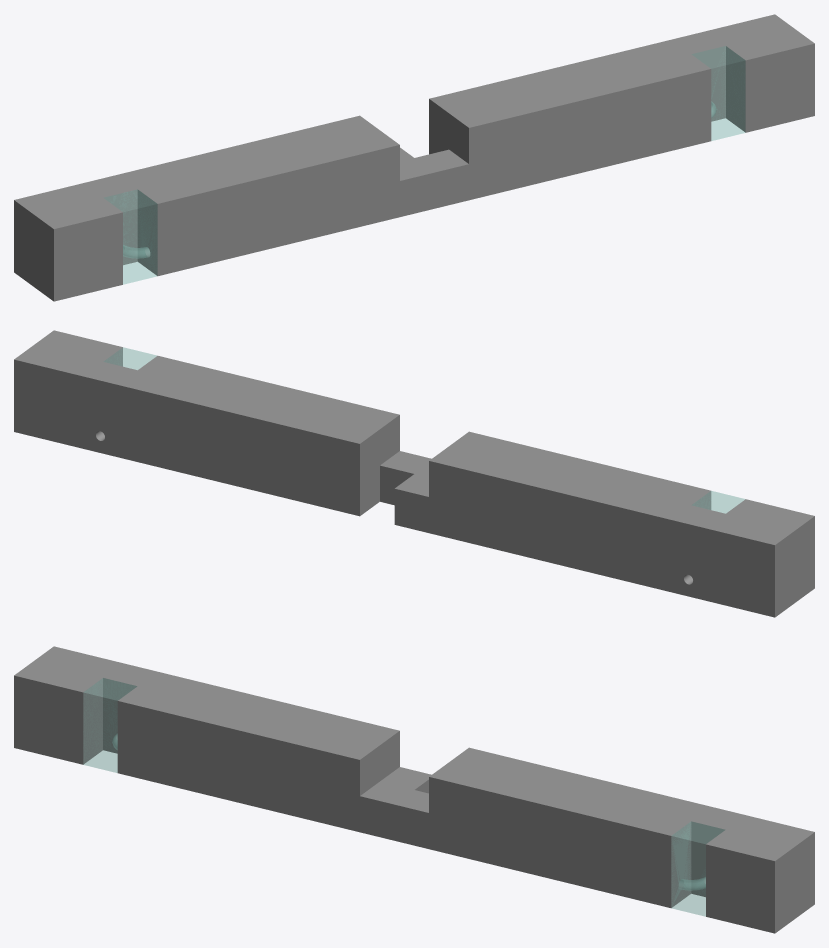
The picture shows the model from 3 angles, top to bottom: view 1: azimuth 30°, elevation 25°; view 2: azimuth 150°, elevation 25°; view 3: azimuth 330°, elevation 25°; orthographic projection.
Parts seen in each view (by area): view 1: 2-1_M5_2; view 2: 2-1_M5_2; view 3: 2-1_M5_2.
Boxes of the visible parts, x1,y1,x2,y2 form: 2-1_M5_2: (14, 14, 814, 301); 2-1_M5_2: (14, 330, 814, 617); 2-1_M5_2: (14, 646, 814, 933).
Size of the model in its own units: 330 by 30 by 30.
